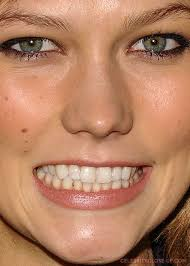bekas: (37, 94, 42, 99)
